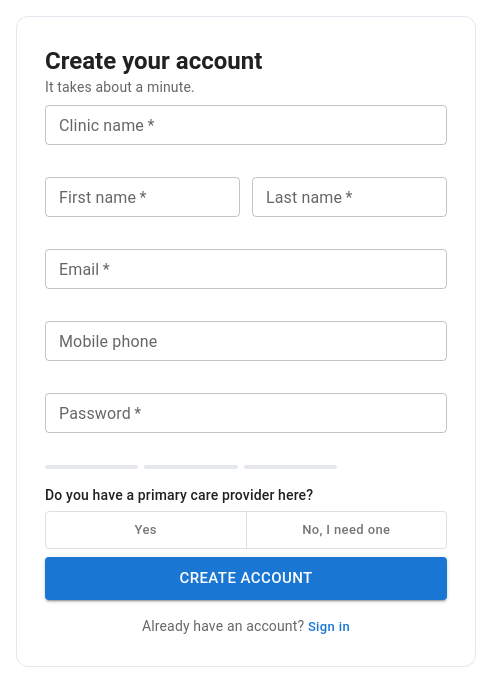
it: public sign-up › an email that already has an account says so on the email field
In the field labelled "Clinic name *": (246, 125) [45,105,447,145], type "Riverside"
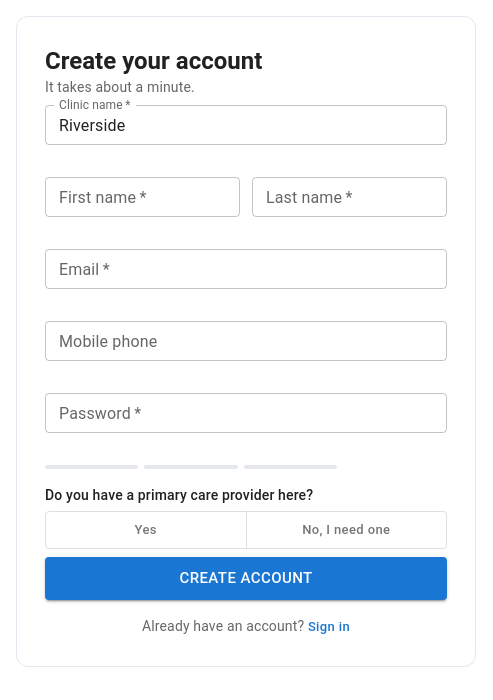
In the field labelled "First name *": (142, 197) [45,177,240,217], type "Ann"
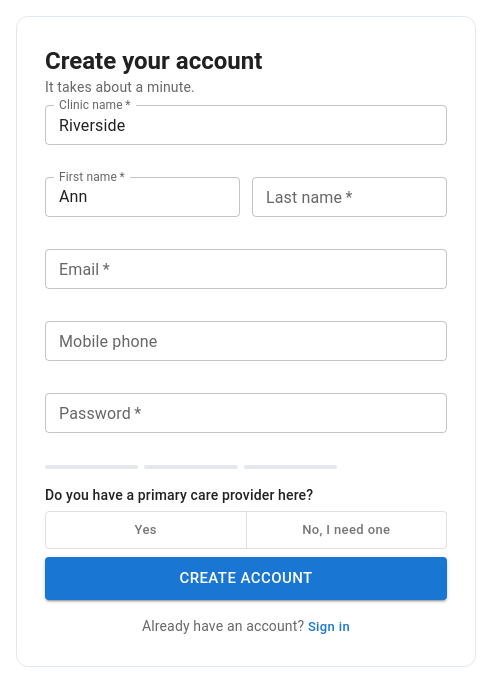
In the field labelled "Last name *": (350, 197) [252,177,447,217], type "Lee"
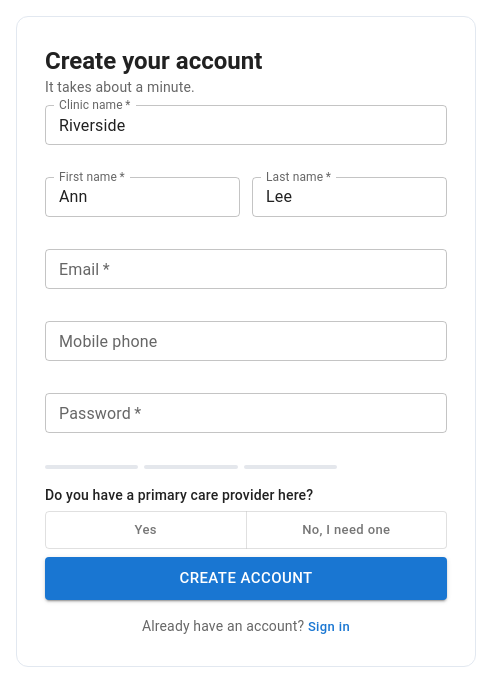
In the field labelled "Email *": (246, 269) [45,249,447,289], type "ann@example.com"
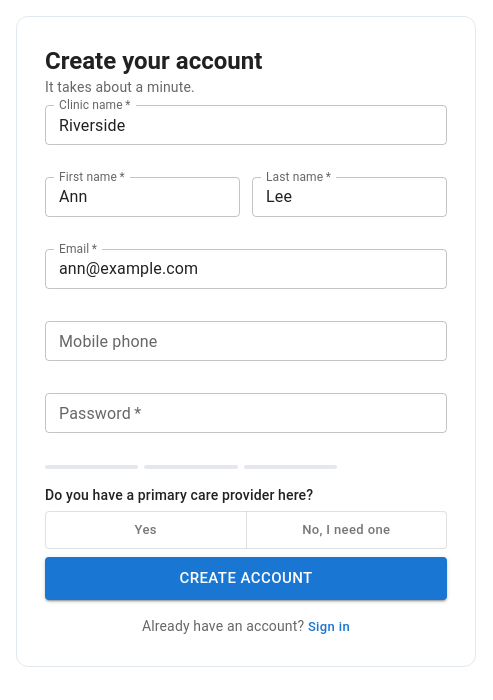
In the password field labelled "Password *": (246, 413) [45,393,447,433], type "secret1"
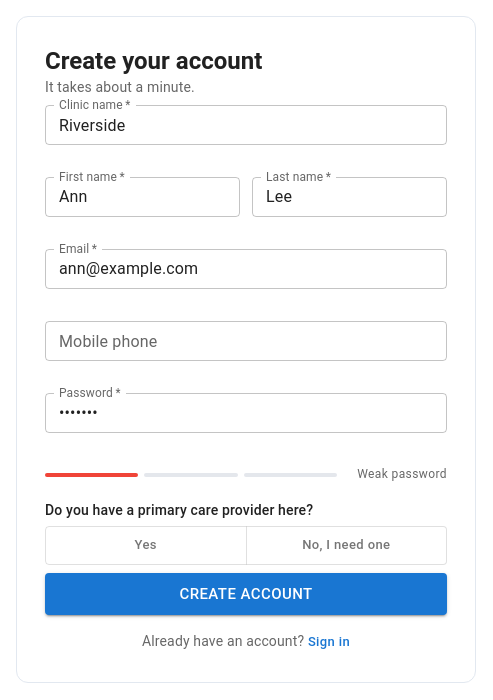
Click the button "Create account": (246, 594) [45,573,447,616]
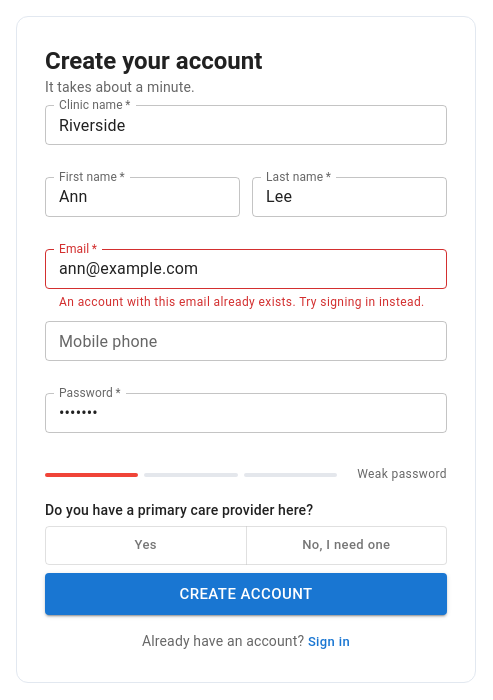
Result: the text "An account with this email already exists" is shown at [59,295,425,309]
